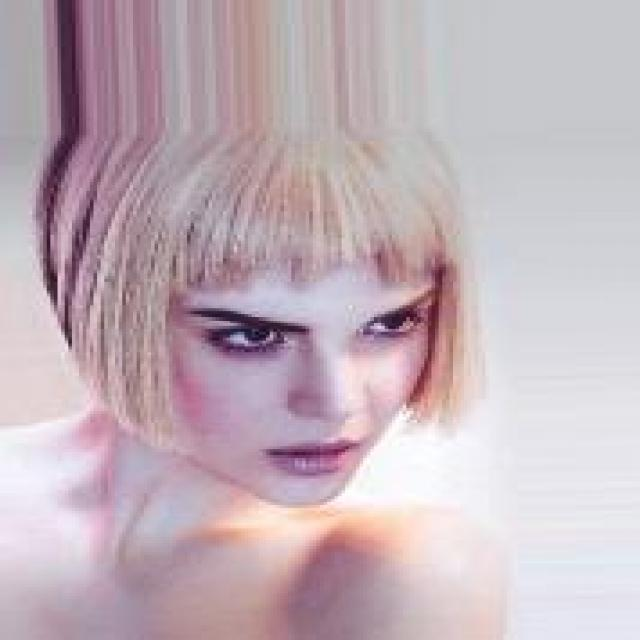nomask: (133, 114, 467, 476)
